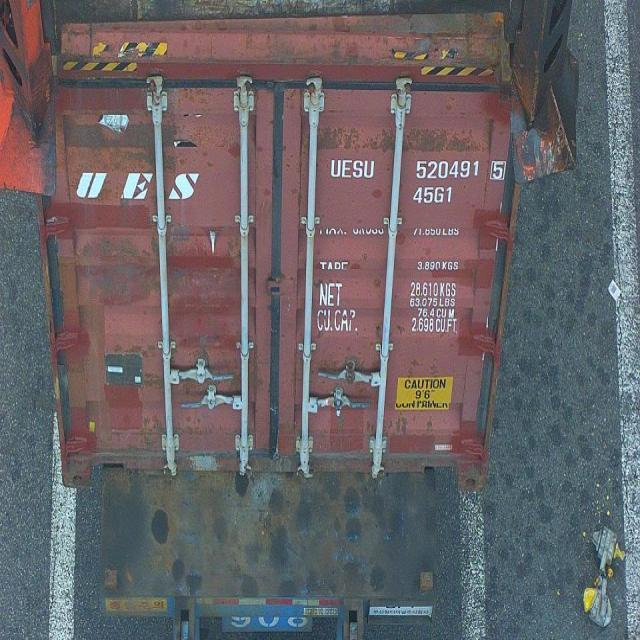ISO: (414, 187, 455, 206)
container_number: (328, 152, 508, 184)
